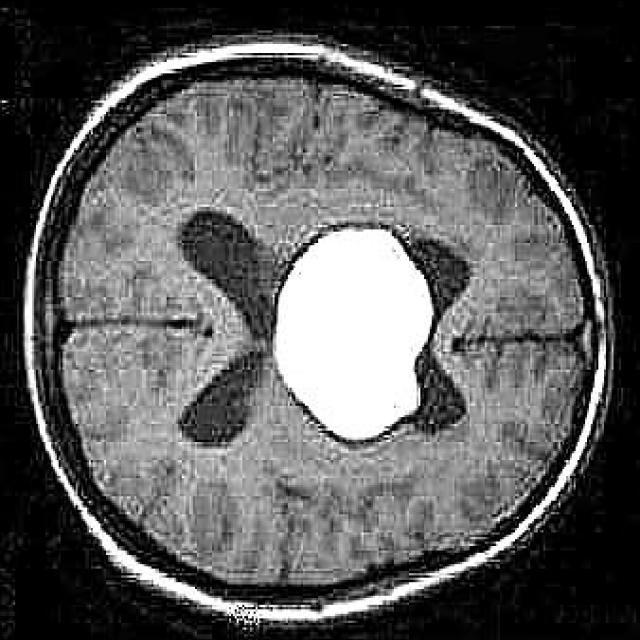tumor: (269, 224, 468, 448)
